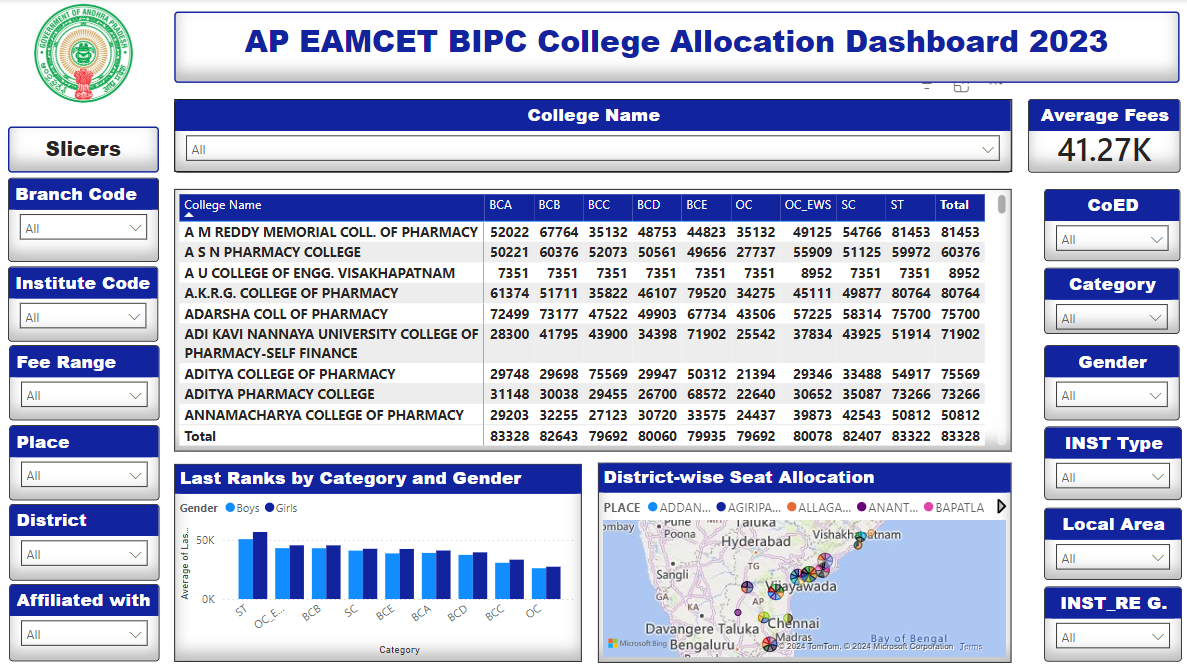

Layout of this report page (visuals, bound fields, positions):
{"tool":"powerbi","page":{"name":"Page 1","canvas":[1280,720],"ordinal":0},"visuals":[{"type":"slicer","title":"Affiliated with","fields":{"Values":["2023 last rank details.AFFLIA. UNIV"]},"box":[12.1,629.4,161.4,83.4],"z":0},{"type":"slicer","title":"Fee Range","fields":{"Values":["2023 last rank details.Fee Range"]},"box":[12.1,372.5,161.4,80.7],"z":1000},{"type":"slicer","title":"District","fields":{"Values":["2023 last rank details.DIST"]},"box":[12.1,543.3,161.4,82],"z":2000},{"type":"slicer","title":"Institute Code","fields":{"Values":["2023 last rank details.inst_code"]},"box":[10.8,287.8,161.4,80.7],"z":3000},{"type":"slicer","title":"Place","fields":{"Values":["2023 last rank details.PLACE"]},"box":[12.1,458.6,161.4,80.7],"z":4000},{"type":"slicer","title":"College Name","fields":{"Values":["2023 last rank details.inst_name"]},"box":[189.6,107.6,901,79.3],"z":5000},{"type":"slicer","title":"INST_RE G.","fields":{"Values":["2023 last rank details.INST_RE G."]},"box":[1125.6,632.1,147.9,80.7],"z":6000},{"type":"slicer","title":"INST Type","fields":{"Values":["2023 last rank details.Inst_type"]},"box":[1125.6,459.9,147.9,79.3],"z":7000},{"type":"slicer","title":"Local Area","fields":{"Values":["2023 last rank details.Local_ area"]},"box":[1125.6,547.3,147.9,78],"z":8000},{"type":"slicer","title":"Branch Code","fields":{"Values":["2023 last rank details.branch_ code"]},"box":[10.8,192.3,162.7,90.1],"z":9000},{"type":"card","title":"Average Fees","fields":{"Values":["Avg(2023 last rank details.FEES)"]},"box":[1108.1,107.6,164.1,79.3],"z":10000},{"type":"pivotTable","fields":{"Rows":["2023 last rank details.inst_name"],"Columns":["2023 last rank details.Category","2023 last rank details.Gender"],"Values":["Max(2023 last rank details.Last Rank)"]},"box":[189.6,204.4,901,282.4],"z":11000},{"type":"textbox","box":[189.6,13.4,1081.2,76.7],"z":12000},{"type":"textbox","box":[10.8,137.2,162.7,49.8],"z":13000},{"type":"slicer","title":"Gender","fields":{"Values":["2023 last rank details.Gender"]},"box":[1125.6,372.5,145.2,80.7],"z":13001},{"type":"clusteredColumnChart","title":"Last Ranks by Category and Gender","fields":{"Category":["2023 last rank details.Category"],"Series":["2023 last rank details.Gender"],"Y":["Avg(2023 last rank details.Last Rank)"]},"box":[189.6,500.3,438.4,212.5],"z":13002},{"type":"slicer","title":"Category","fields":{"Values":["2023 last rank details.Category"]},"box":[1125.6,289.1,145.2,71.3],"z":13003},{"type":"map","title":"District-wise Seat Allocation","fields":{"Category":["2023 last rank details.District "],"Series":["2023 last rank details.PLACE"],"Size":["Max(2023 last rank details.Last Rank)"]},"box":[645.5,498.9,445.1,215.2],"z":13004},{"type":"slicer","title":"CoED","fields":{"Values":["2023 last rank details.COED"]},"box":[1125.6,204.4,146.6,78],"z":13005},{"type":"image","box":[33.6,0,117,117],"z":13006}]}

Visuals, with their boxes in screenshot pixels (x1, y1, x2, y2), scaled from the page's 1280x720 canvas onto the 1187x667 screenshot:
"Affiliated with" slicer: rect(11, 583, 161, 660)
"Fee Range" slicer: rect(11, 345, 161, 420)
"District" slicer: rect(11, 503, 161, 579)
"Institute Code" slicer: rect(10, 267, 160, 341)
"Place" slicer: rect(11, 425, 161, 500)
"College Name" slicer: rect(176, 100, 1011, 173)
"INST_RE G." slicer: rect(1044, 586, 1181, 660)
"INST Type" slicer: rect(1044, 426, 1181, 500)
"Local Area" slicer: rect(1044, 507, 1181, 579)
"Branch Code" slicer: rect(10, 178, 161, 262)
"Average Fees" card: rect(1028, 100, 1180, 173)
pivotTable - 2023 last rank details.inst_name x 2023 last rank details.Category: rect(176, 189, 1011, 451)
textbox: rect(176, 12, 1178, 83)
textbox: rect(10, 127, 161, 173)
"Gender" slicer: rect(1044, 345, 1178, 420)
"Last Ranks by Category and Gender" clusteredColumnChart: rect(176, 463, 582, 660)
"Category" slicer: rect(1044, 268, 1178, 334)
"District-wise Seat Allocation" map: rect(599, 462, 1011, 662)
"CoED" slicer: rect(1044, 189, 1180, 262)
image: rect(31, 0, 140, 108)
